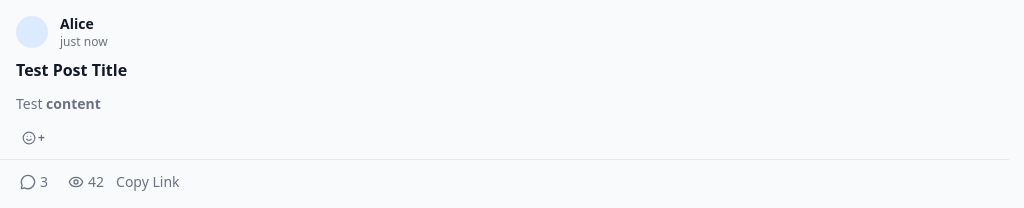
Scenario: PostCard › reactions › opens reaction picker popup when "+" button is clicked
Click the button named "Add reaction" at (33, 138), box [16,129,51,147]
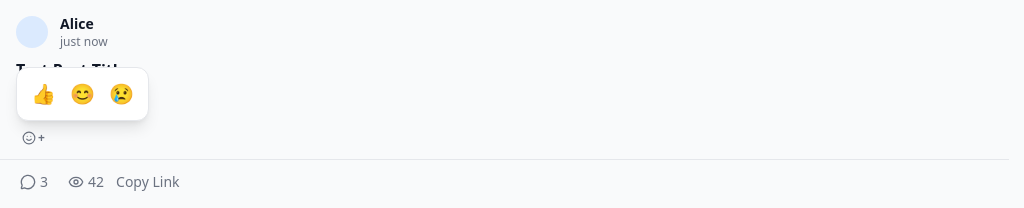
Check: the button named "React with LIKE" is shown, box [25,74,62,114]
Check: the button named "React with SMILE" is shown, box [64,74,101,114]
Check: the button named "React with CRY" is shown, box [103,74,140,114]
